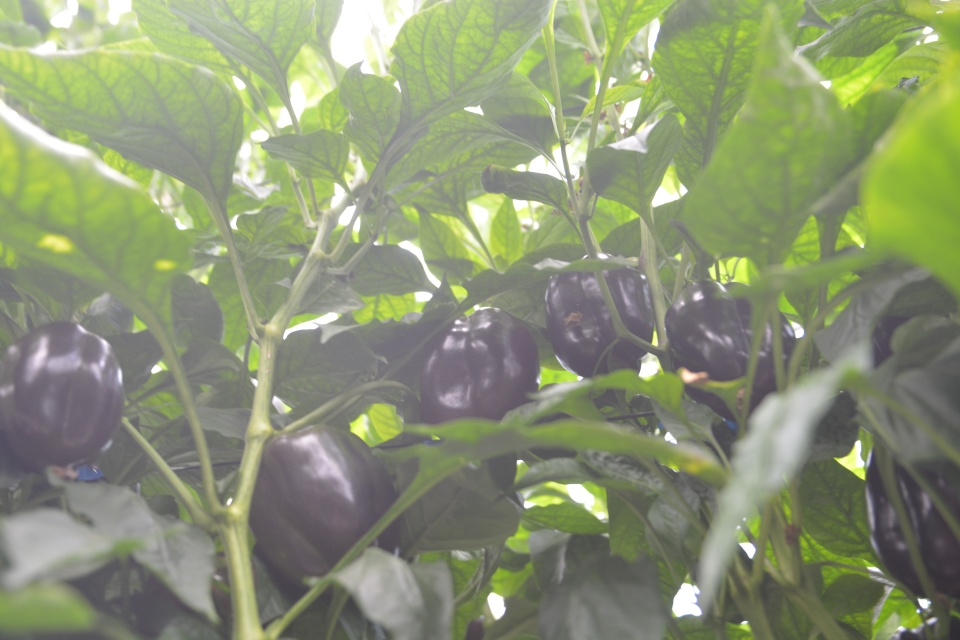fruit: (248, 421, 400, 600), (664, 279, 798, 427), (0, 320, 126, 472), (416, 307, 541, 423), (542, 254, 656, 379), (868, 452, 960, 599)
